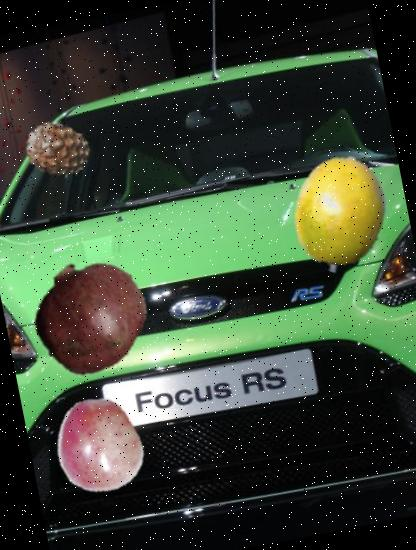Cherry: (39, 389, 154, 504)
Maracuja: (271, 144, 408, 282)
Pineapple: (19, 111, 96, 188)
Pomegranate: (23, 248, 158, 383)
